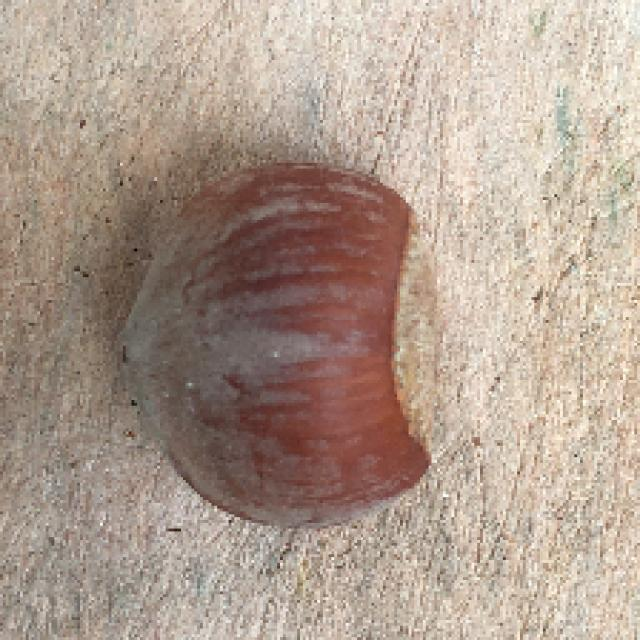qualityHazelnut: (117, 165, 447, 531)
